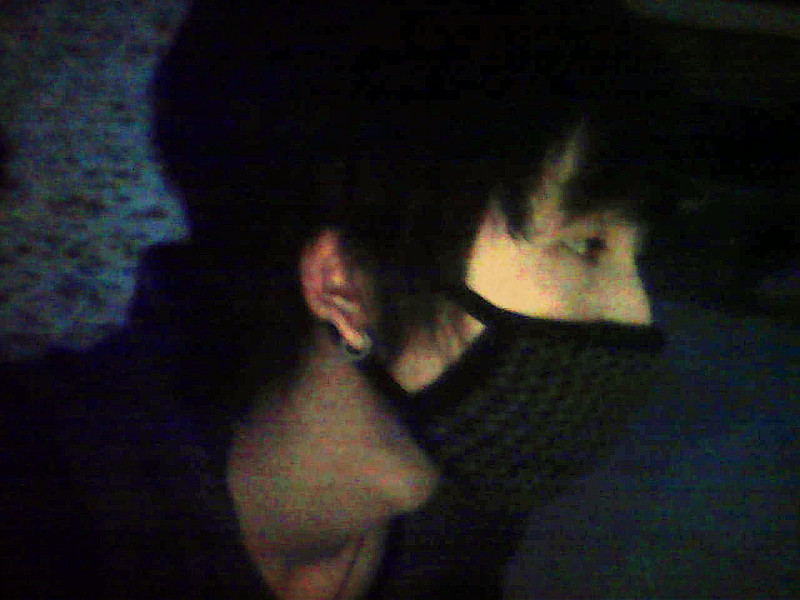face_mask: (399, 119, 656, 520)
